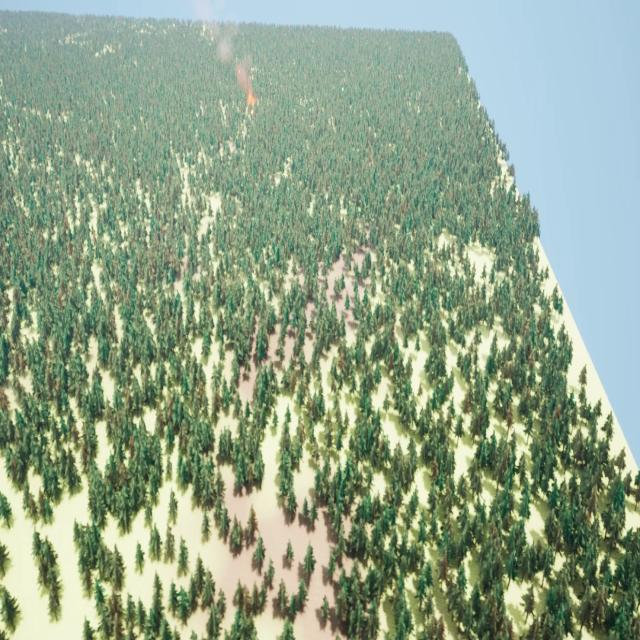fire: (246, 90, 260, 108)
smoke: (193, 5, 256, 94)
